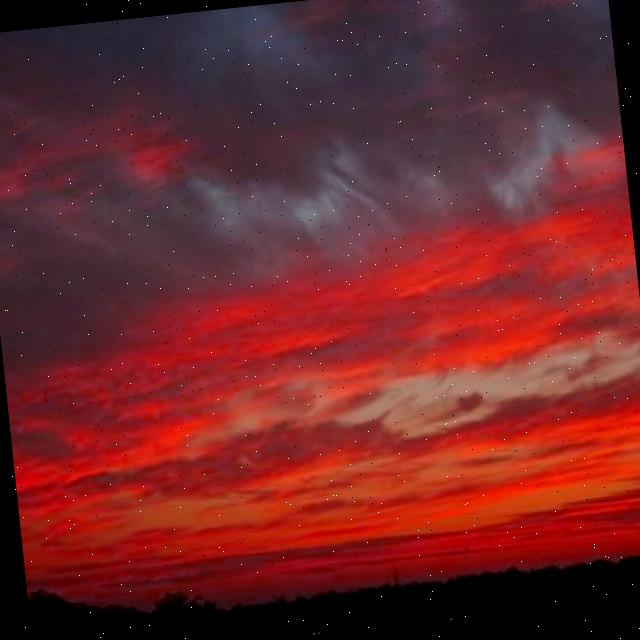As: (1, 12, 640, 512)
